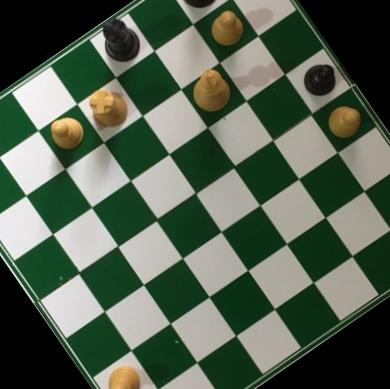black-king: (167, 0, 233, 17)
black-pawn: (295, 56, 344, 105)
black-rook: (89, 10, 149, 72)
white-king: (180, 61, 239, 121)
white-pawn: (200, 4, 253, 57), (41, 108, 92, 159), (319, 96, 369, 146), (97, 358, 150, 389)
white-rook: (80, 78, 136, 136)
